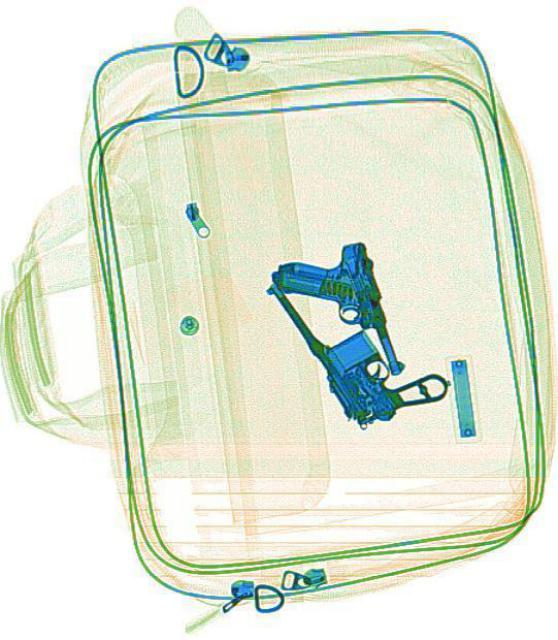Gun: (263, 226, 450, 449), (259, 234, 405, 406)
